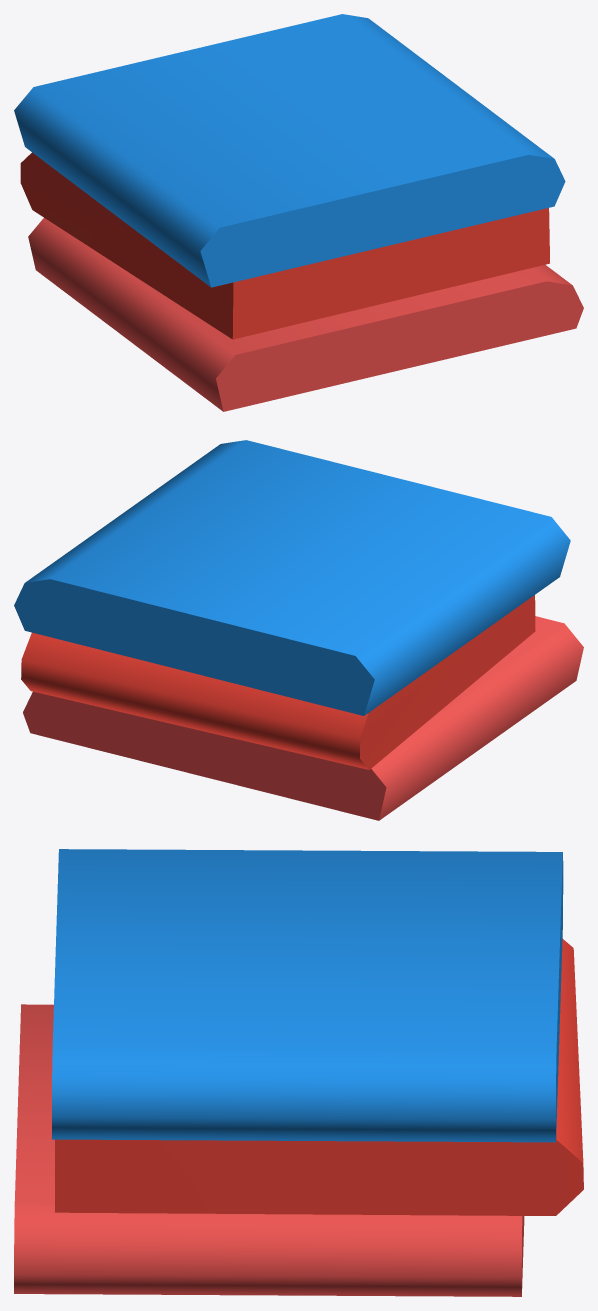
The model's file is shop_047.fbx.
3 views of the same model, one above another, from view 1: azimuth 30°, elevation 25°; view 2: azimuth 150°, elevation 25°; view 3: azimuth 270°, elevation 25° (orthographic). The views are drawn at different scales.
Parts seen in each view (by area): view 1: shop_047; view 2: shop_047; view 3: shop_047.
Part boxes in pixels (x1,y1,x2,y2): shop_047: (14, 14, 583, 411); shop_047: (14, 440, 583, 820); shop_047: (14, 849, 583, 1296).
Bounding box in the file's own units: 40.74 × 41.05 × 17.96.
